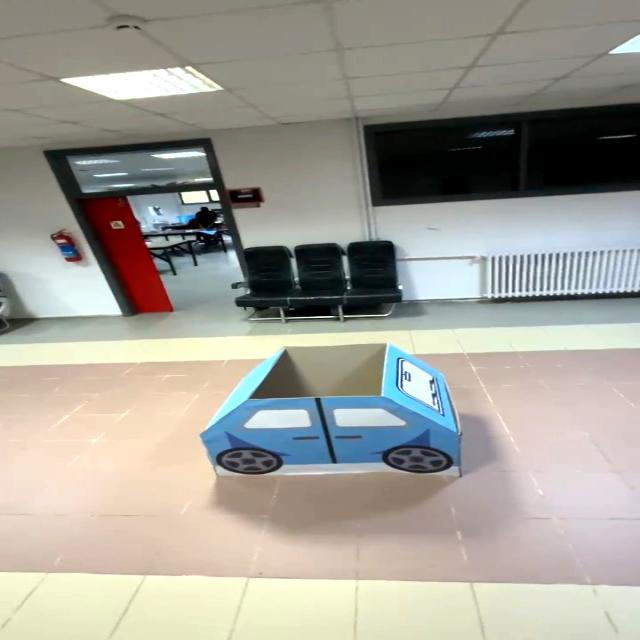blue_car: (183, 334, 487, 501)
